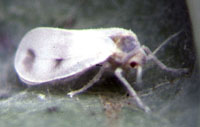whitefly: (13, 23, 189, 112)
